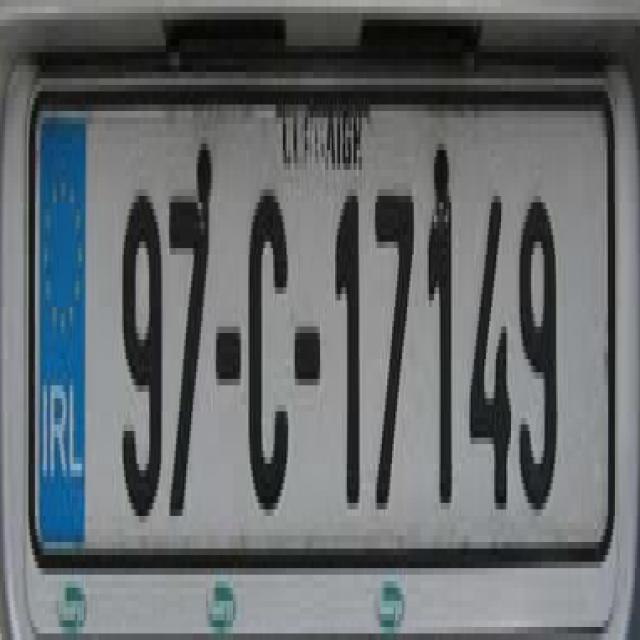EU: (29, 86, 612, 565)
Irlande: (39, 115, 85, 547)
